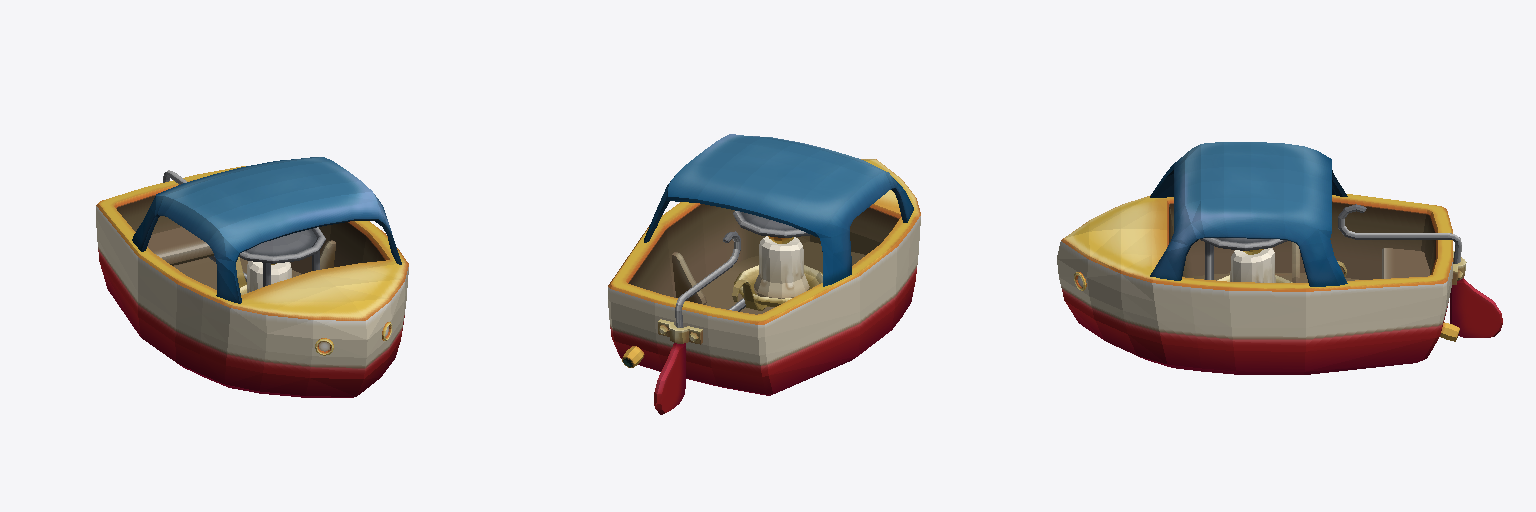
3 views of the same model, side by side, from view 1: azimuth 30°, elevation 25°; view 2: azimuth 150°, elevation 25°; view 3: azimuth 270°, elevation 25° (orthographic).
Visible parts, largest first — view 1: Ghibli:pPlane46_lambert4_0; view 2: Ghibli:pPlane46_lambert4_0; view 3: Ghibli:pPlane46_lambert4_0.
Part boxes in pixels (x1,y1,x2,y2): Ghibli:pPlane46_lambert4_0: (96,157,408,397); Ghibli:pPlane46_lambert4_0: (608,134,920,414); Ghibli:pPlane46_lambert4_0: (1057,142,1502,374).
Size of the model in its own units: 18.74 by 14.03 by 34.46.
Materials: 1 (1 with a texture image).